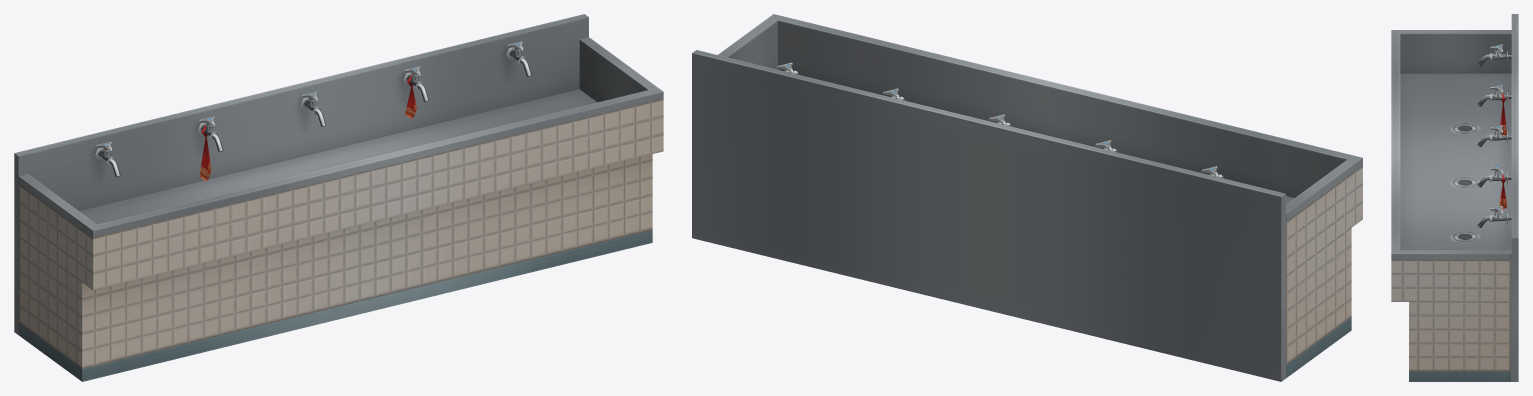
The model's file is SHW_Sink_01_01.fbx.
The picture shows the model from 3 angles, left to right: view 1: azimuth 30°, elevation 25°; view 2: azimuth 150°, elevation 25°; view 3: azimuth 270°, elevation 25°; orthographic projection. The views are drawn at different scales.
Visible parts, largest first — view 1: shw_sink_01_01; view 2: shw_sink_01_01; view 3: shw_sink_01_01.
Part boxes in pixels (x1,y1,x2,y2): shw_sink_01_01: [14, 14, 663, 381]; shw_sink_01_01: [692, 14, 1362, 381]; shw_sink_01_01: [1391, 14, 1518, 381].
Size of the model in its own units: 300 by 90 by 72.
